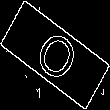O_SW: (28, 22, 82, 88)
